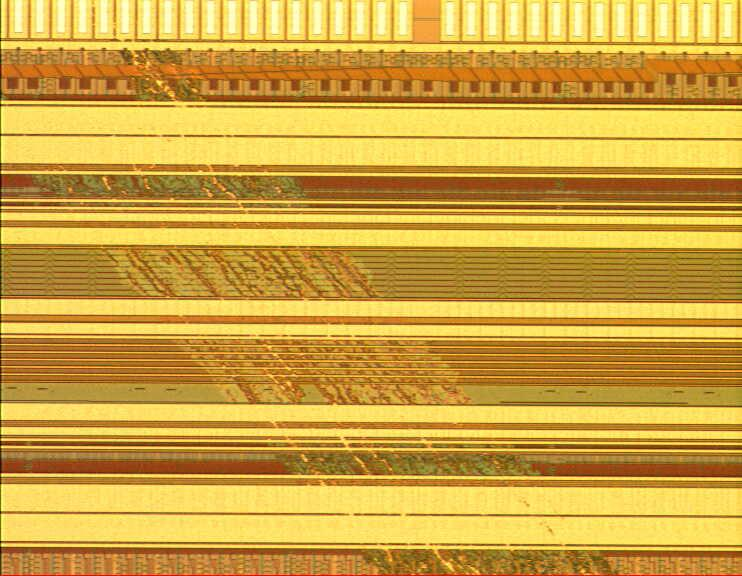BLOCK ETCH: (32, 34, 635, 576)
